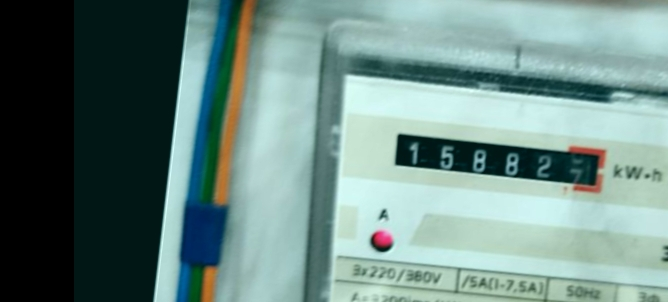1: (405, 142, 421, 168)
2: (534, 155, 552, 180)
5: (436, 144, 455, 172)
7: (567, 167, 583, 187)
8: (469, 149, 488, 177), (502, 152, 520, 179)
screen: (377, 118, 616, 207)
